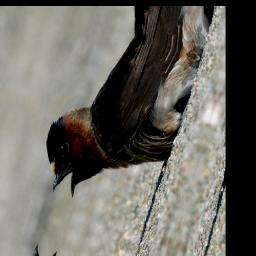Swallow: (32, 18, 203, 228)
